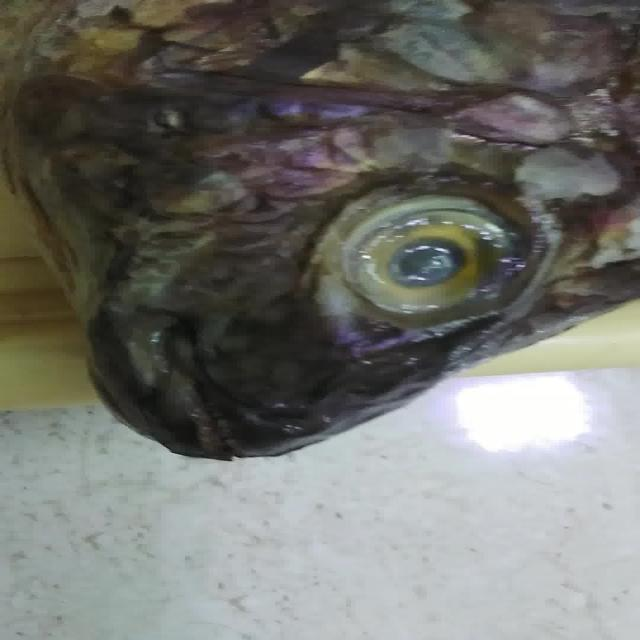Non-Fresh: (326, 183, 521, 341)
